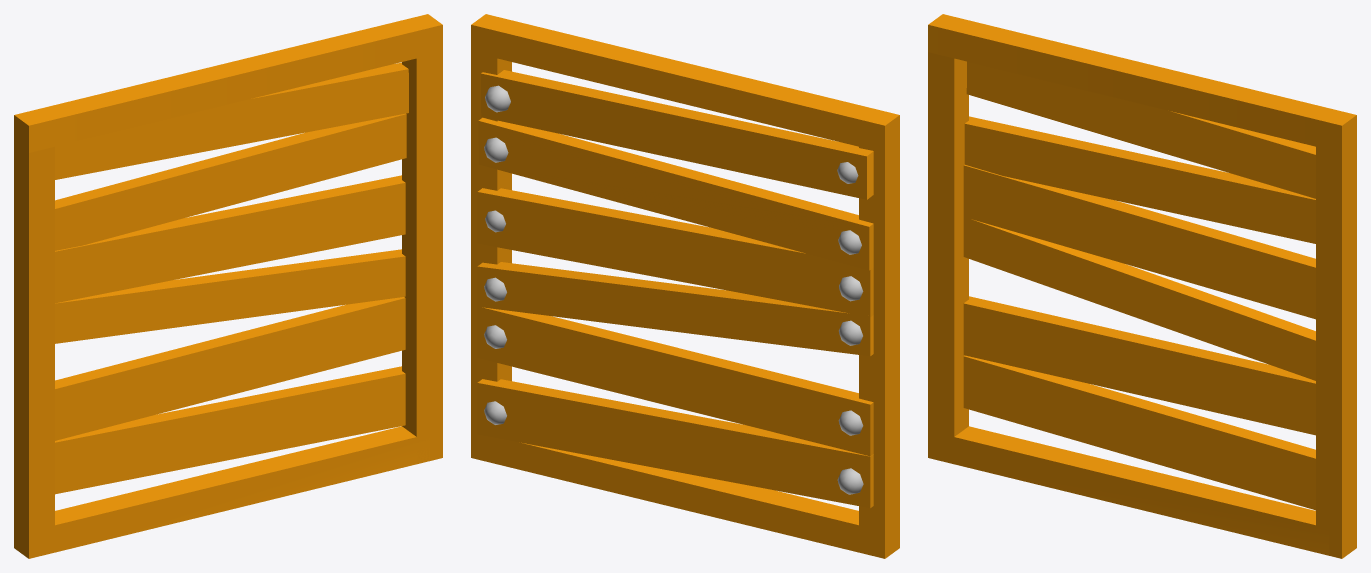
Rendered from Wood_barrier_3.fbx.
3 views of the same model, side by side, from view 1: azimuth 30°, elevation 25°; view 2: azimuth 150°, elevation 25°; view 3: azimuth 330°, elevation 25° (orthographic).
Parts seen in each view (by area): view 1: Wood_barrier_3; view 2: Wood_barrier_3; view 3: Wood_barrier_3.
Boxes of the visible parts, <box> form: Wood_barrier_3: <box>14,14,442,558</box>; Wood_barrier_3: <box>471,14,899,558</box>; Wood_barrier_3: <box>928,14,1356,558</box>.
Size of the model in its own units: 3.2 by 3.2 by 0.3355.
1 material, 1 textured.
